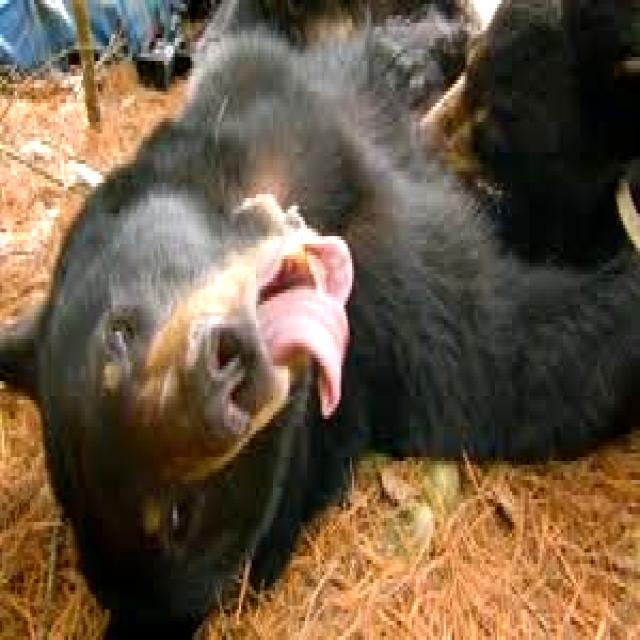bear: (56, 93, 379, 590)
